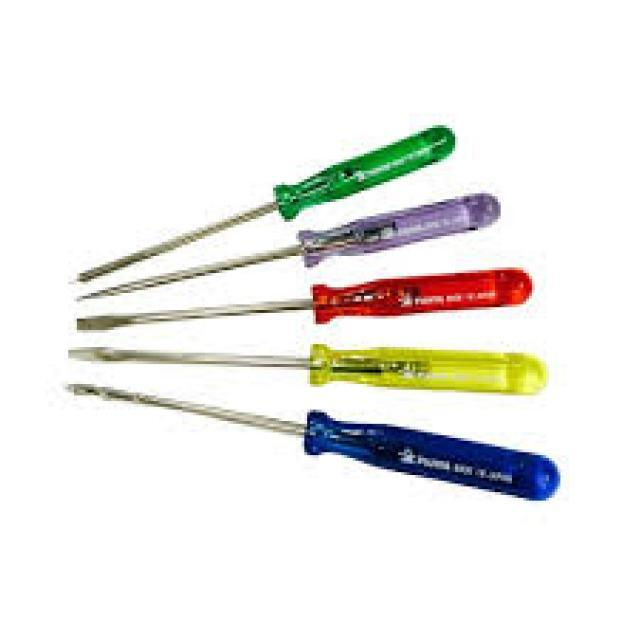screwdriver: (59, 120, 456, 288), (61, 381, 562, 504), (71, 190, 509, 308), (68, 264, 538, 336), (61, 342, 553, 400)
